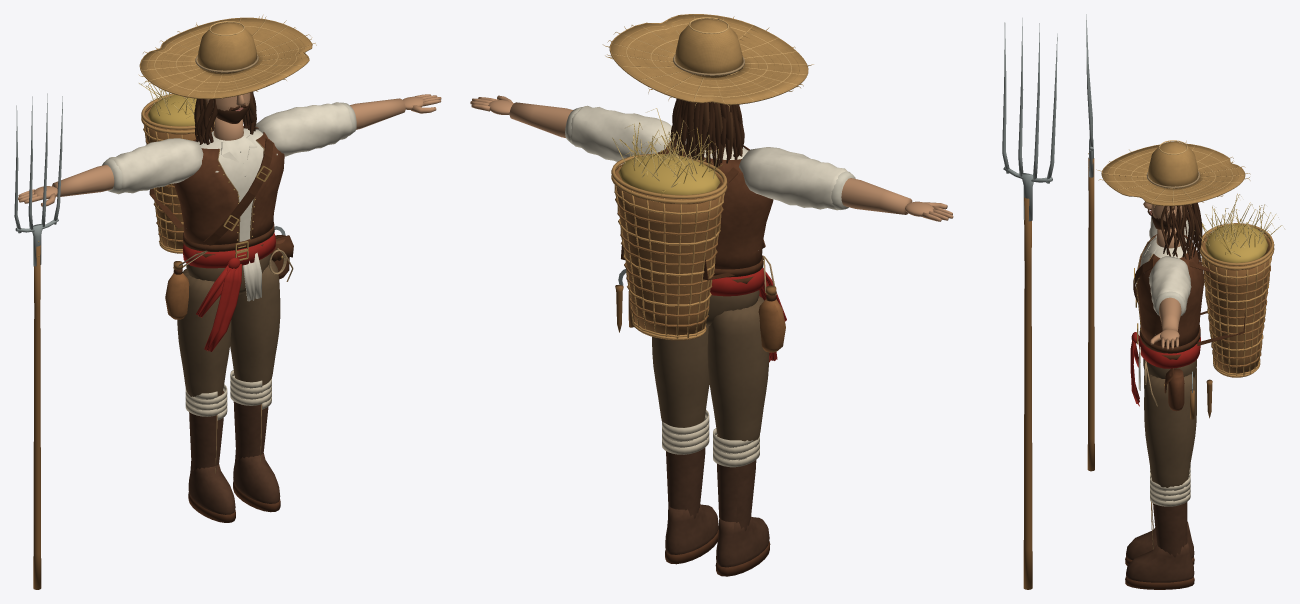
Rendered from paysan.glb.
3 renders of one model, left to right at view 1: azimuth 30°, elevation 25°; view 2: azimuth 150°, elevation 25°; view 3: azimuth 270°, elevation 25°, orthographic. The views are drawn at different scales.
Visible parts, largest first — view 1: Paysan_Corps, Chapeau_Paille, Fourche_4_Dents, Panier_Osier, Foin_Panier, Gourde_Ceinture, Sacoche_Cuir; view 2: Paysan_Corps, Panier_Osier, Chapeau_Paille, Fourche_4_Dents, Foin_Panier, Gourde_Ceinture; view 3: Paysan_Corps, Panier_Osier, Chapeau_Paille, Fourche_4_Dents, Foin_Panier, Sacoche_Cuir.
Boxes of the visible parts, <box> form: Paysan_Corps: <box>18,92,441,522</box>; Chapeau_Paille: <box>138,14,316,99</box>; Fourche_4_Dents: <box>14,93,62,589</box>; Panier_Osier: <box>141,93,214,253</box>; Foin_Panier: <box>139,81,214,126</box>; Gourde_Ceinture: <box>165,250,207,319</box>; Sacoche_Cuir: <box>271,235,293,279</box>; Paysan_Corps: <box>470,95,953,576</box>; Panier_Osier: <box>611,153,727,340</box>; Chapeau_Paille: <box>602,14,813,110</box>; Fourche_4_Dents: <box>1002,18,1057,589</box>; Foin_Panier: <box>612,108,722,195</box>; Gourde_Ceinture: <box>758,255,785,352</box>; Paysan_Corps: <box>1125,201,1245,589</box>; Panier_Osier: <box>1199,223,1274,377</box>; Chapeau_Paille: <box>1096,140,1250,208</box>; Fourche_4_Dents: <box>1086,14,1094,471</box>; Foin_Panier: <box>1194,193,1284,262</box>; Sacoche_Cuir: <box>1164,368,1184,411</box>.
Bounding box in the file's own units: 1.82 × 1.84 × 0.737.
27 materials, 11 textured.
